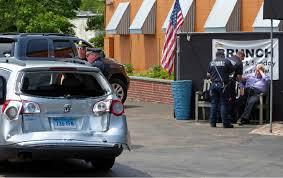Rear-windscreen-Damage: (18, 67, 100, 97)
boot-dent: (19, 96, 113, 135)
